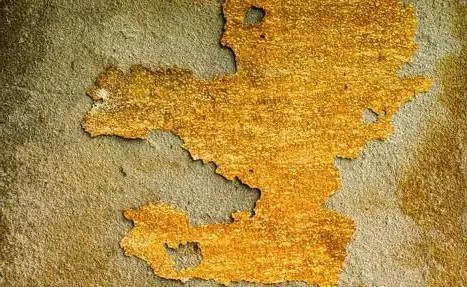Corrosion: (77, 1, 435, 287)
